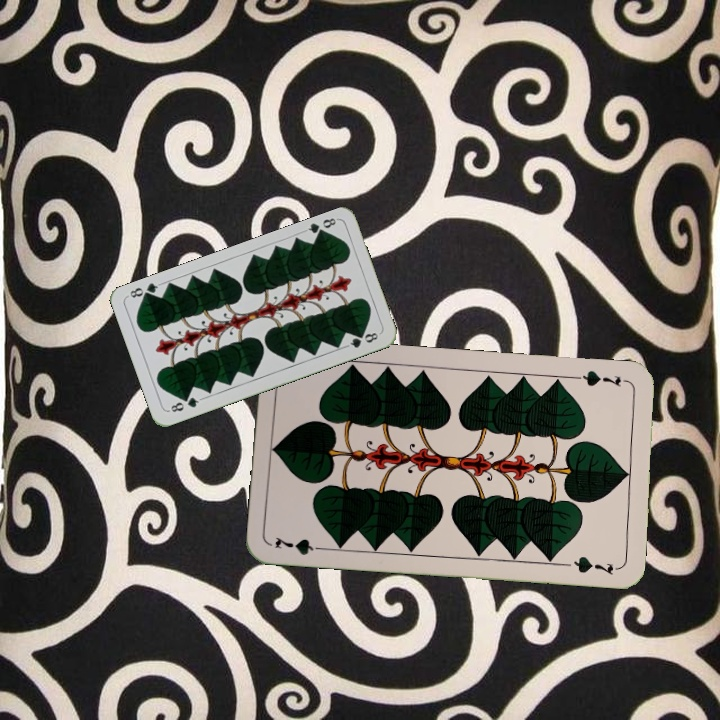G7: (271, 532, 329, 558), (573, 366, 632, 389)
G8: (300, 214, 340, 240), (165, 393, 204, 415)
